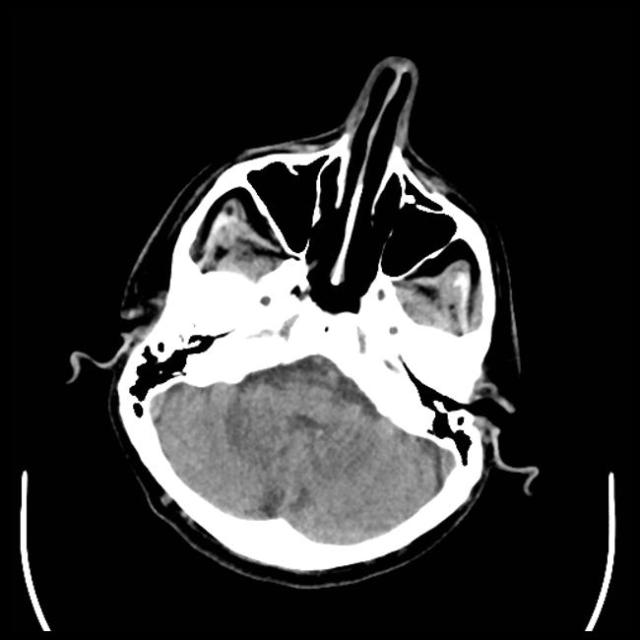lesion: (75, 54, 539, 589)
